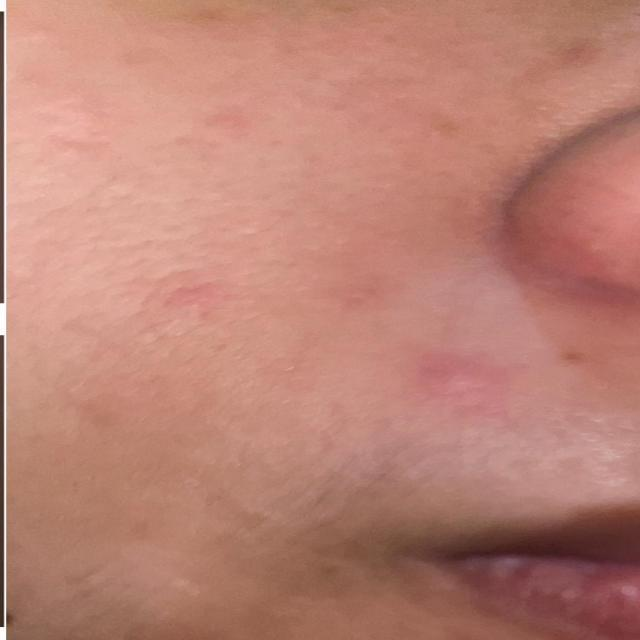papule: (362, 334, 528, 406)
